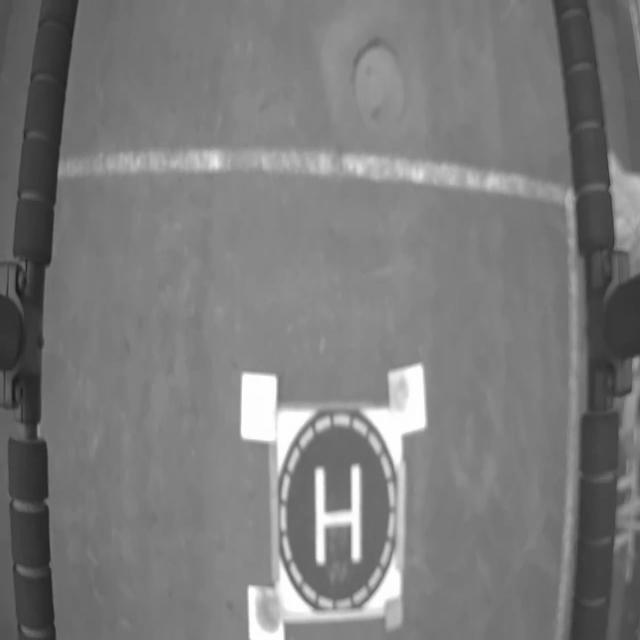Helipad: (314, 463, 361, 568)
